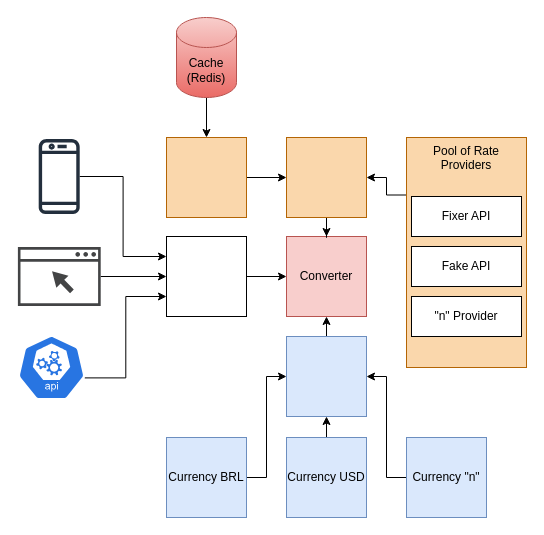
This 544x535 diagram has some shape labels left out. The centre of each missing label's shape, as x and y in pixels:
Currencies Container: (x=326, y=376)
Gateway API: (x=206, y=276)
Rate Cache Manager: (x=206, y=177)
Rate Manager: (x=326, y=177)
